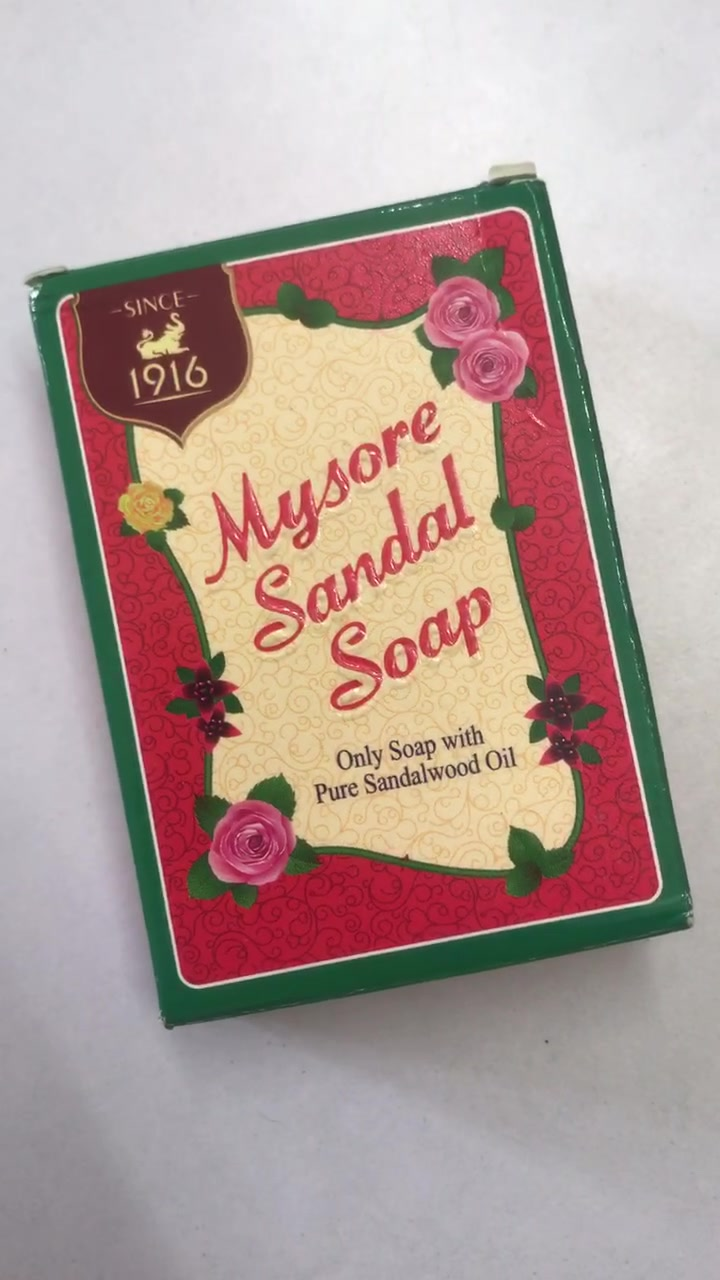mysore sandal soap: (23, 175, 692, 1030)
